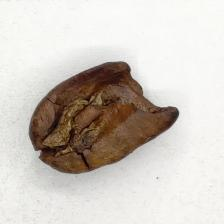NG: (117, 61, 180, 119), (46, 99, 97, 158)
